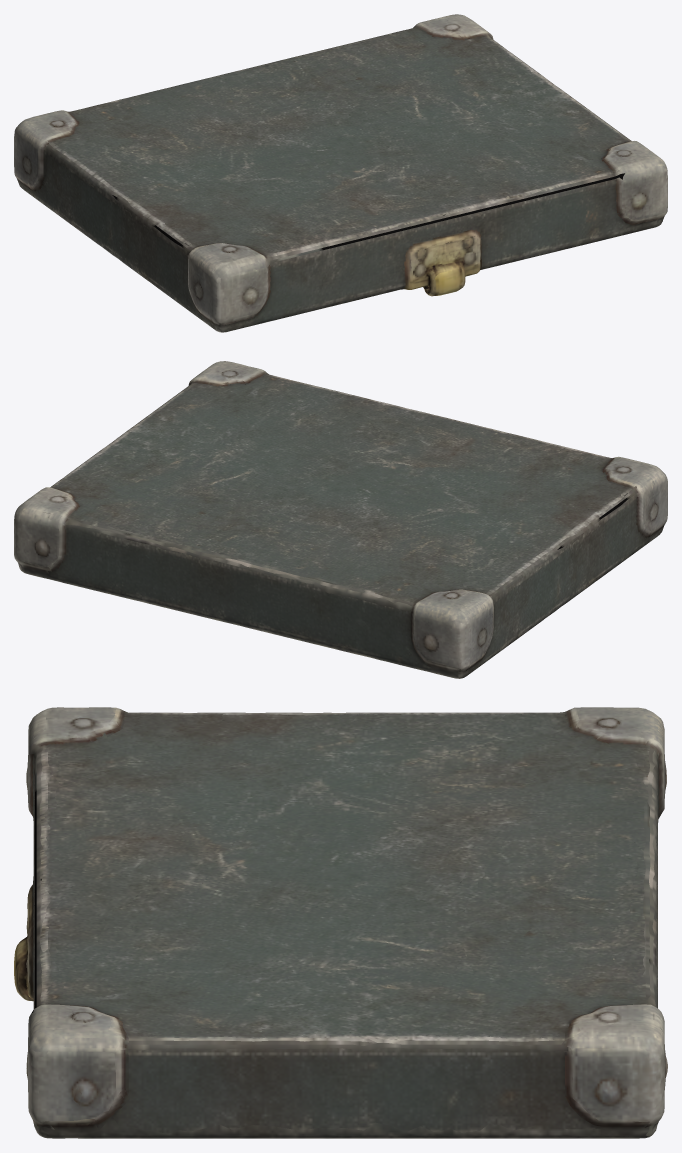
Rendered from lid.glb.
The picture shows the model from 3 angles, top to bottom: view 1: azimuth 30°, elevation 25°; view 2: azimuth 150°, elevation 25°; view 3: azimuth 270°, elevation 25°; orthographic projection. The views are drawn at different scales.
Size of the model in its own units: 1.01 by 0.1699 by 0.8164.
Materials: 1 (1 with a texture image).
